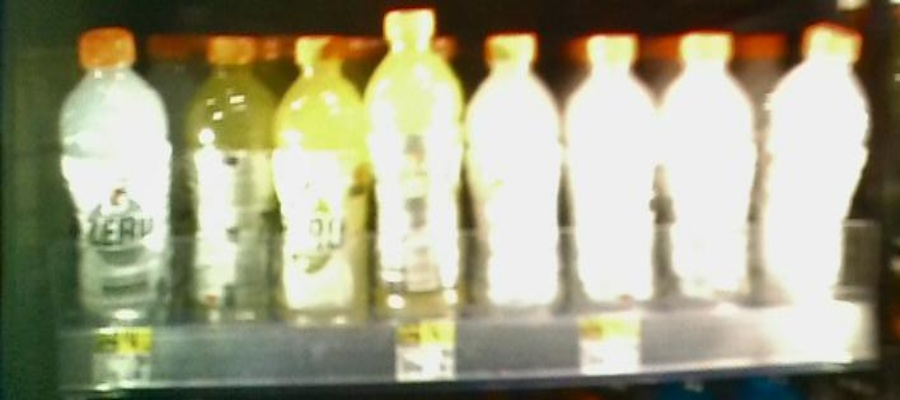bottle: (58, 27, 175, 340), (769, 13, 876, 307), (372, 12, 465, 328), (277, 28, 370, 340), (661, 18, 761, 307), (184, 28, 273, 335), (472, 32, 562, 323), (566, 30, 658, 308)
